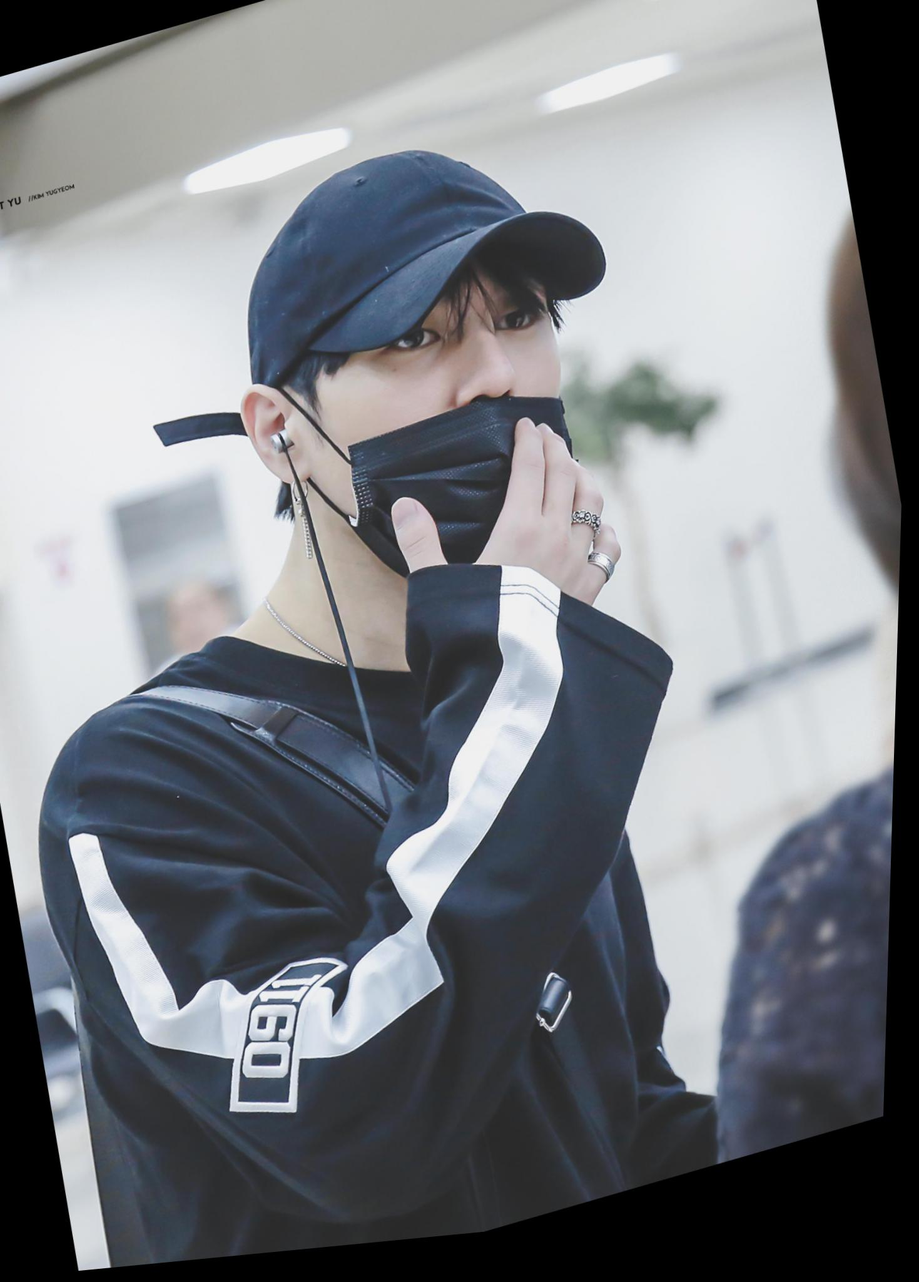WRONG: (277, 228, 608, 627)
